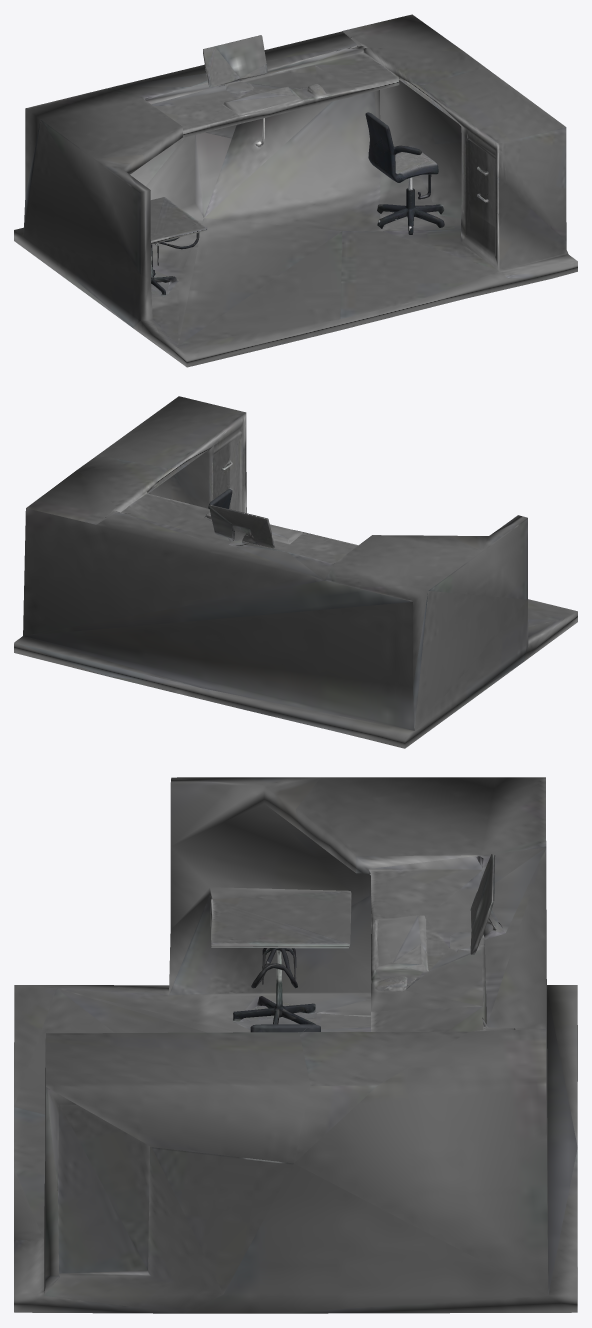
The model's file is security_desk.glb.
3 views of the same model, one above another, from view 1: azimuth 30°, elevation 25°; view 2: azimuth 150°, elevation 25°; view 3: azimuth 270°, elevation 25° (orthographic). The views are drawn at different scales.
Bounding box in the file's own units: 1.9 × 0.7955 × 1.46.
Materials: 1 (1 with a texture image).
